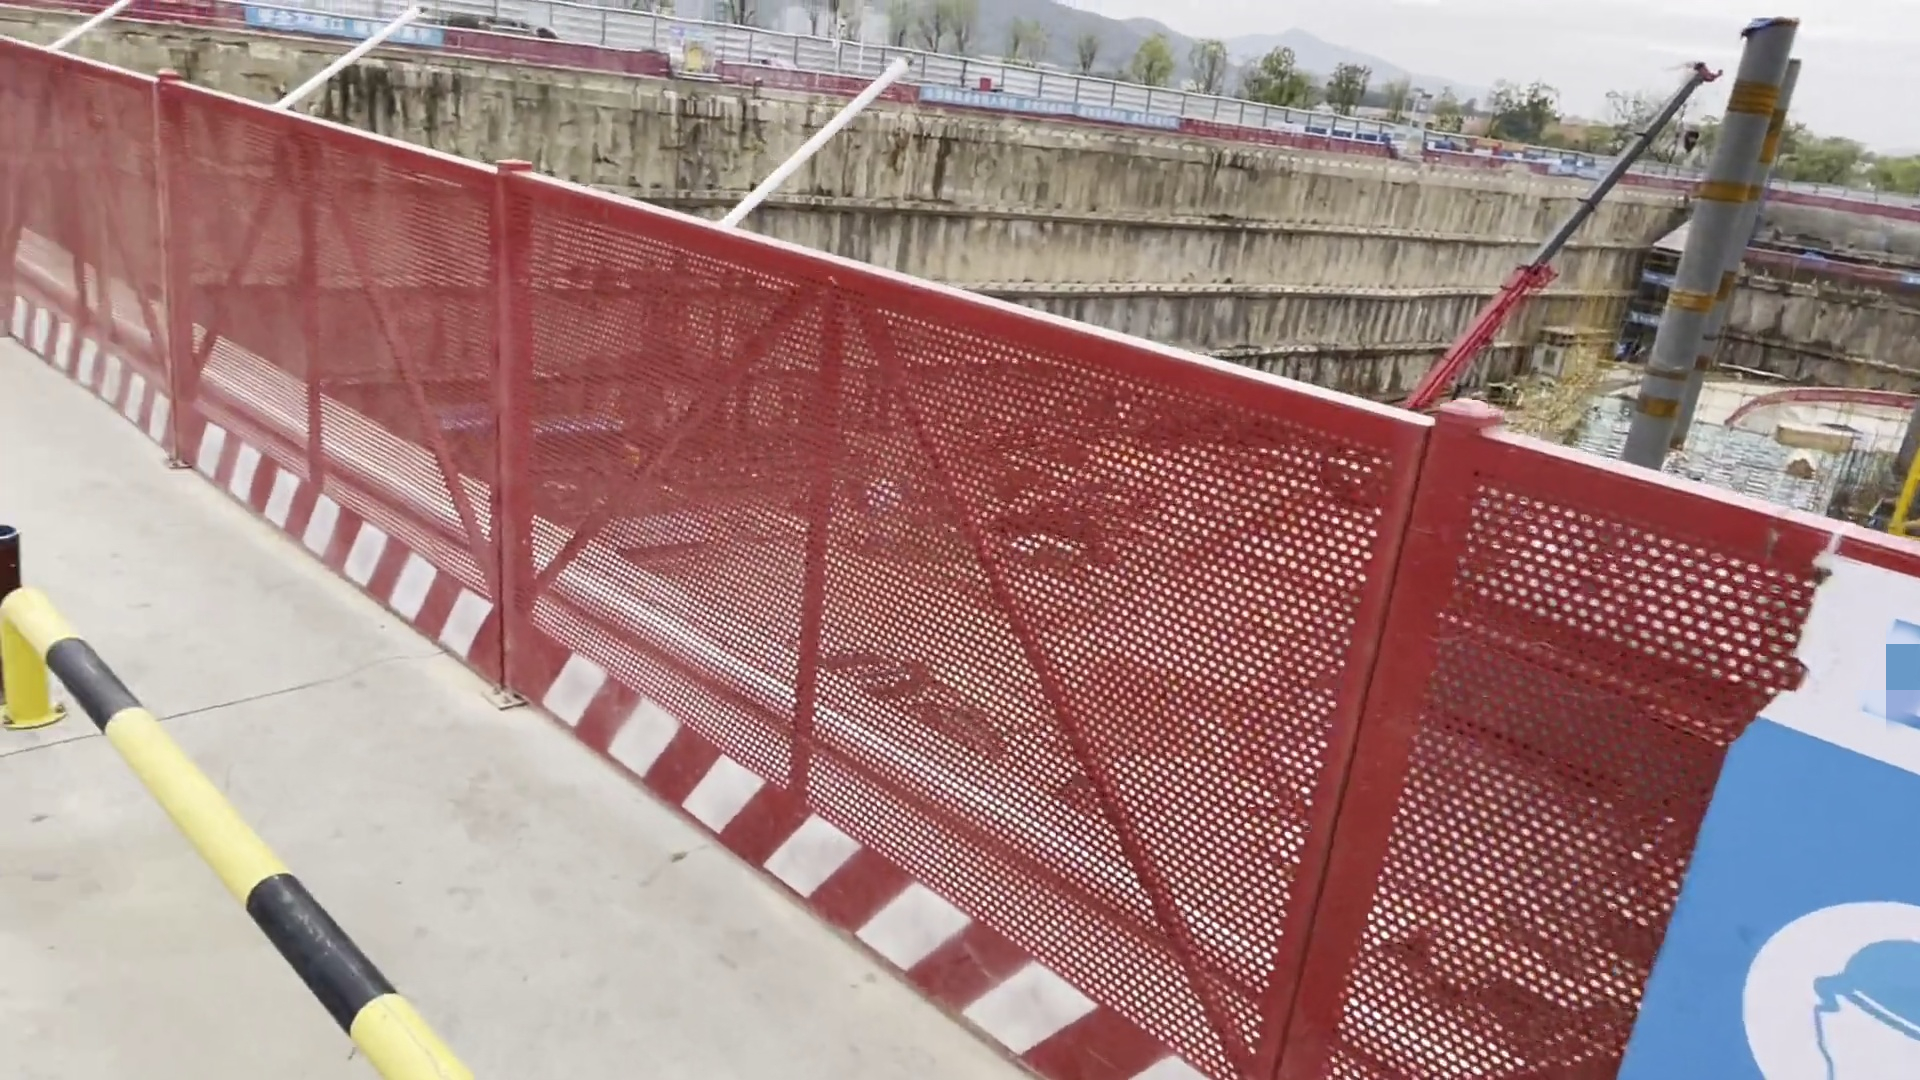fence: (506, 164, 1750, 1080), (160, 73, 504, 746), (1, 37, 158, 454)
hook: (1681, 127, 1698, 153)
slogan: (1592, 555, 1920, 1069), (915, 87, 1191, 137), (243, 5, 450, 37)
wood: (1776, 415, 1851, 452)
